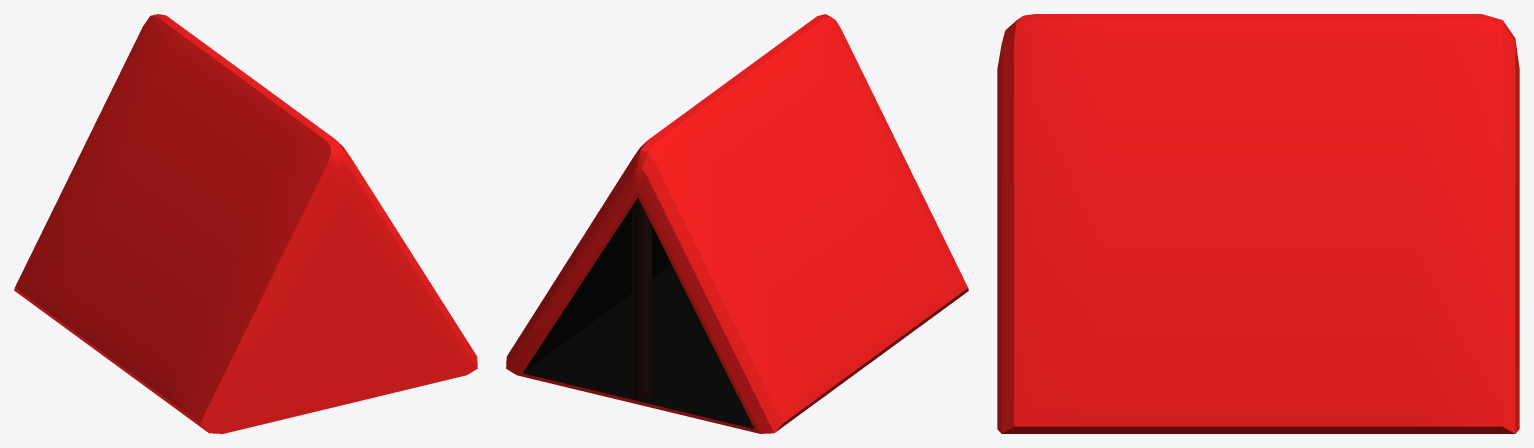
The model's file is Tent #2.FBX.
3 renders of one model, left to right at view 1: azimuth 30°, elevation 25°; view 2: azimuth 150°, elevation 25°; view 3: azimuth 270°, elevation 25°, orthographic. The views are drawn at different scales.
Parts seen in each view (by area): view 1: Tent #2; view 2: Tent #2; view 3: Tent #2.
Boxes of the visible parts, <box> form: Tent #2: <box>14,14,477,433</box>; Tent #2: <box>506,14,968,433</box>; Tent #2: <box>997,14,1519,433</box>.
Bounding box in the file's own units: 85.73 × 75.21 × 106.
